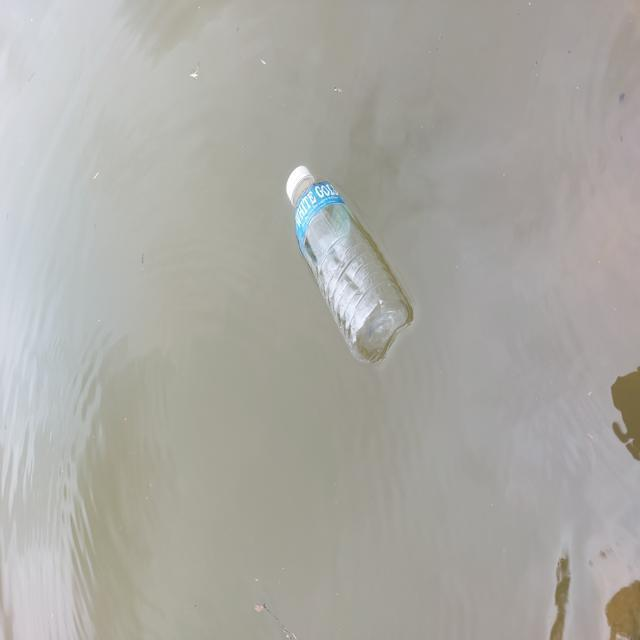waterbottle: (263, 150, 455, 374)
